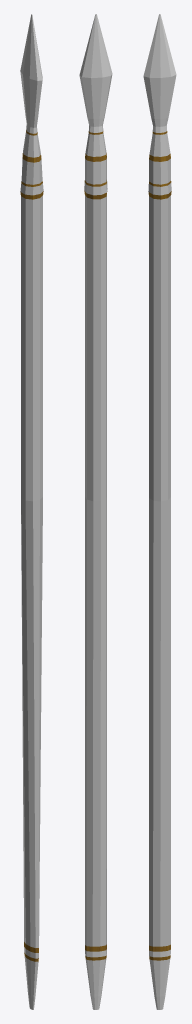
The model's file is Hasta spear.fbx.
3 views of the same model, side by side, from view 1: azimuth 90°, elevation 25°; view 2: azimuth 150°, elevation 25°; view 3: azimuth 330°, elevation 25° (orthographic).
Parts seen in each view (by area): view 1: Cylinder; view 2: Cylinder; view 3: Cylinder.
Boxes of the visible parts, box(x1,y1,x2,y2) form: Cylinder: box(20, 14, 43, 1009); Cylinder: box(79, 14, 112, 1009); Cylinder: box(143, 14, 176, 1009).
Size of the model in its own units: 39.95 by 1559 by 33.14.
3 materials, 1 textured.
